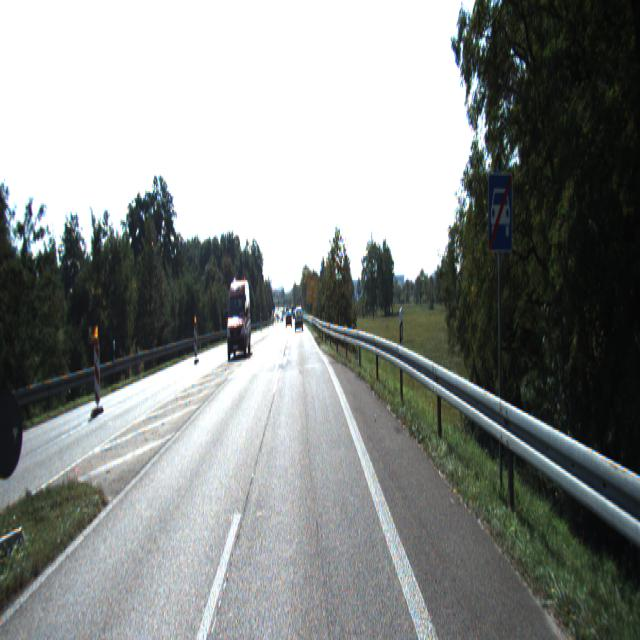Car: (226, 277, 252, 363), (294, 308, 304, 330)
